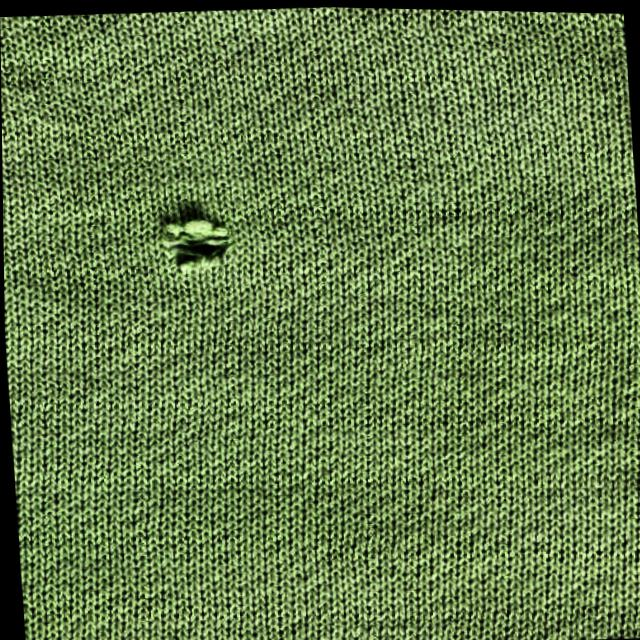Hole: (148, 201, 248, 282)
